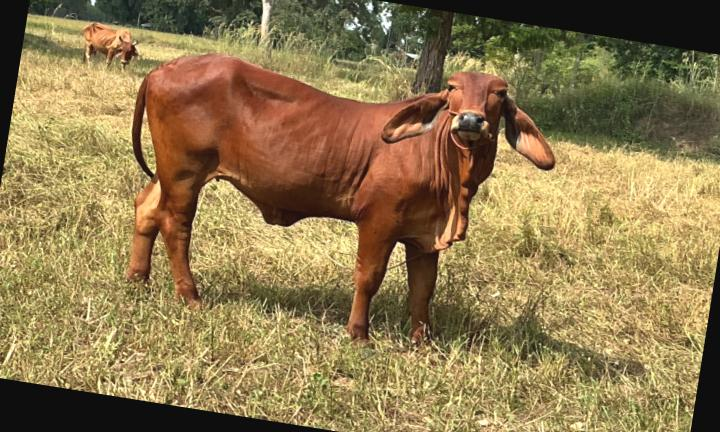Brahman: (126, 53, 554, 343), (83, 22, 138, 67)
